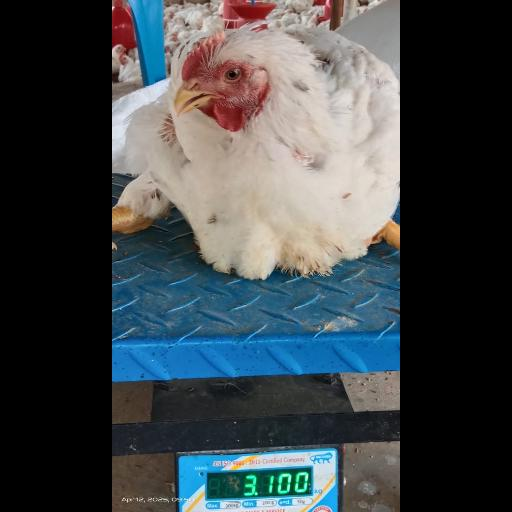chick: (112, 28, 399, 280)
